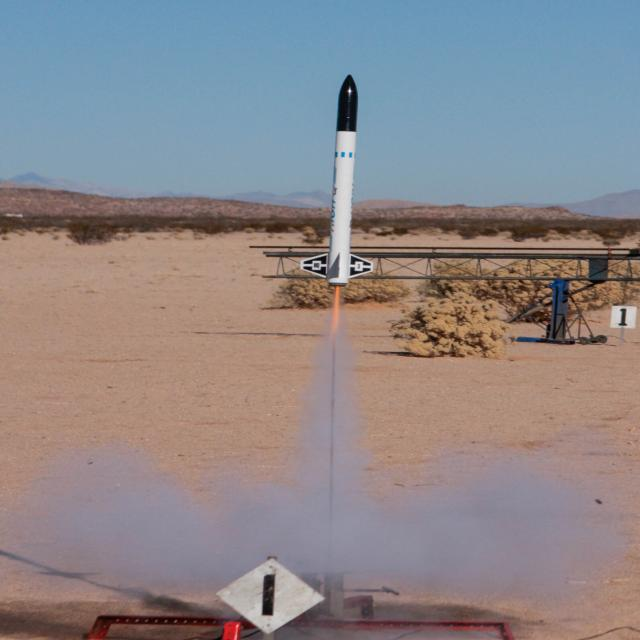Rocket: (299, 73, 374, 288)
